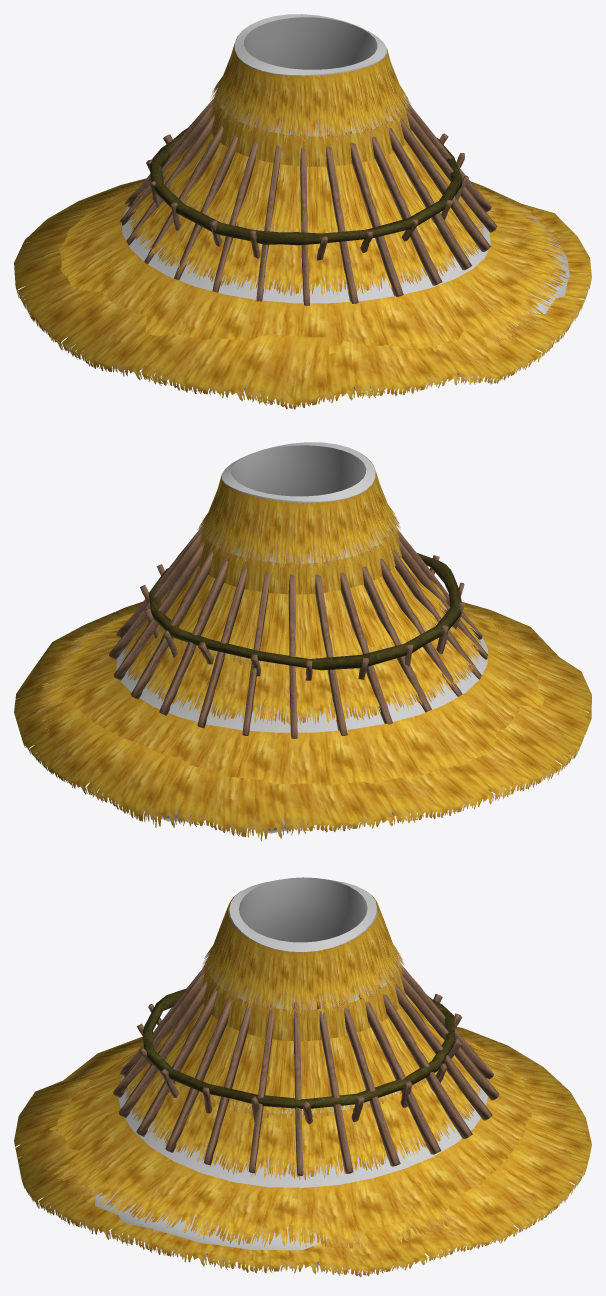
The model's file is SM_high_roof_supported.fbx.
3 renders of one model, top to bottom at view 1: azimuth 30°, elevation 25°; view 2: azimuth 150°, elevation 25°; view 3: azimuth 270°, elevation 25°, orthographic.
Parts seen in each view (by area): view 1: high_roof_supported; view 2: high_roof_supported; view 3: high_roof_supported.
Boxes of the visible parts, x1=… form: high_roof_supported: x1=14, y1=14, x2=591, y2=409; high_roof_supported: x1=14, y1=442, x2=591, y2=841; high_roof_supported: x1=14, y1=877, x2=591, y2=1277.
Size of the model in its own units: 2710 by 1352 by 2671.
